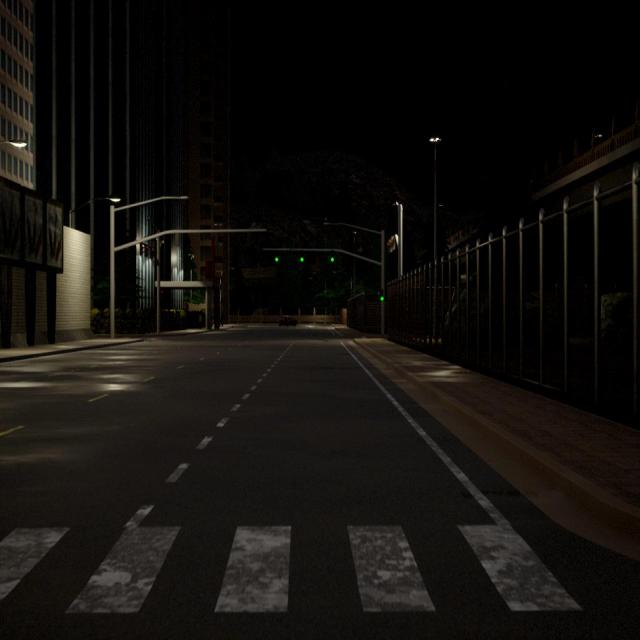Vehicle: (280, 315, 298, 327)
traffic_light: (274, 250, 280, 268), (300, 250, 304, 267), (331, 251, 335, 266), (392, 236, 396, 250), (380, 289, 384, 301), (140, 243, 144, 255), (145, 244, 148, 256), (151, 247, 154, 259), (390, 240, 392, 252), (388, 242, 390, 250)
